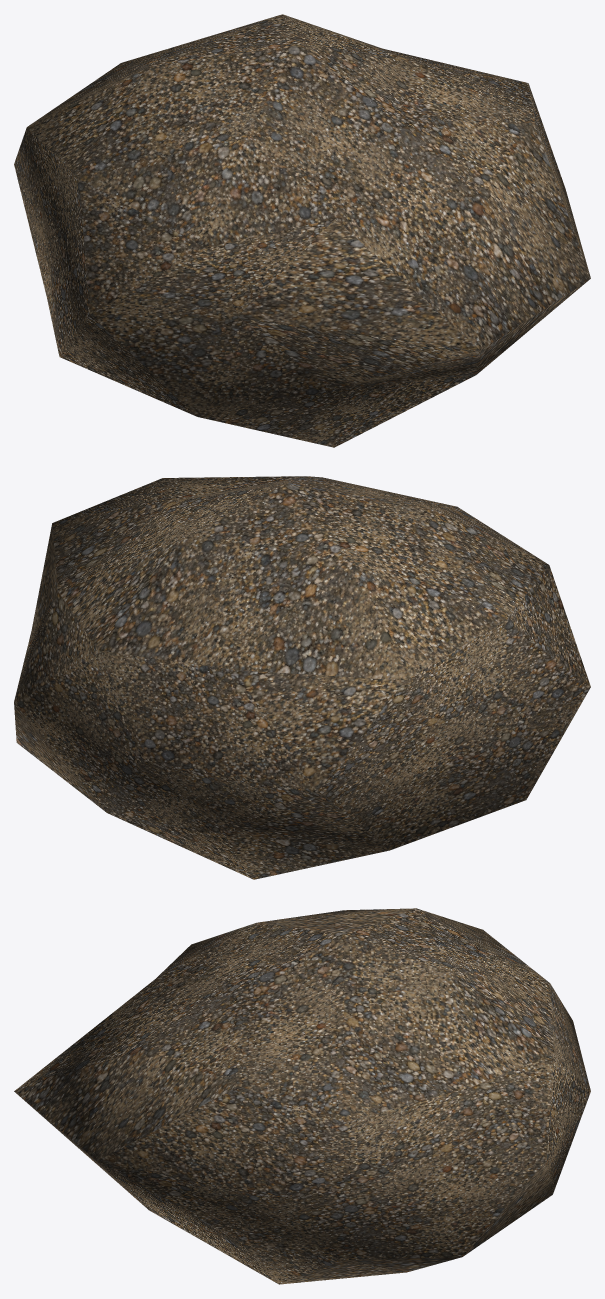
The model's file is level_hc_native_103_0.glb.
The picture shows the model from 3 angles, top to bottom: view 1: azimuth 30°, elevation 25°; view 2: azimuth 150°, elevation 25°; view 3: azimuth 270°, elevation 25°; orthographic projection. The views are drawn at different scales.
Visible parts, largest first — view 1: level_hc_native_103_0; view 2: level_hc_native_103_0; view 3: level_hc_native_103_0.
Boxes of the visible parts, x1,y1,x2,y2 form: level_hc_native_103_0: [14, 14, 590, 447]; level_hc_native_103_0: [14, 476, 590, 879]; level_hc_native_103_0: [14, 908, 590, 1284].
Bounding box in the file's own units: 1.47 × 1.01 × 1.66.
Materials: 1 (1 with a texture image).
